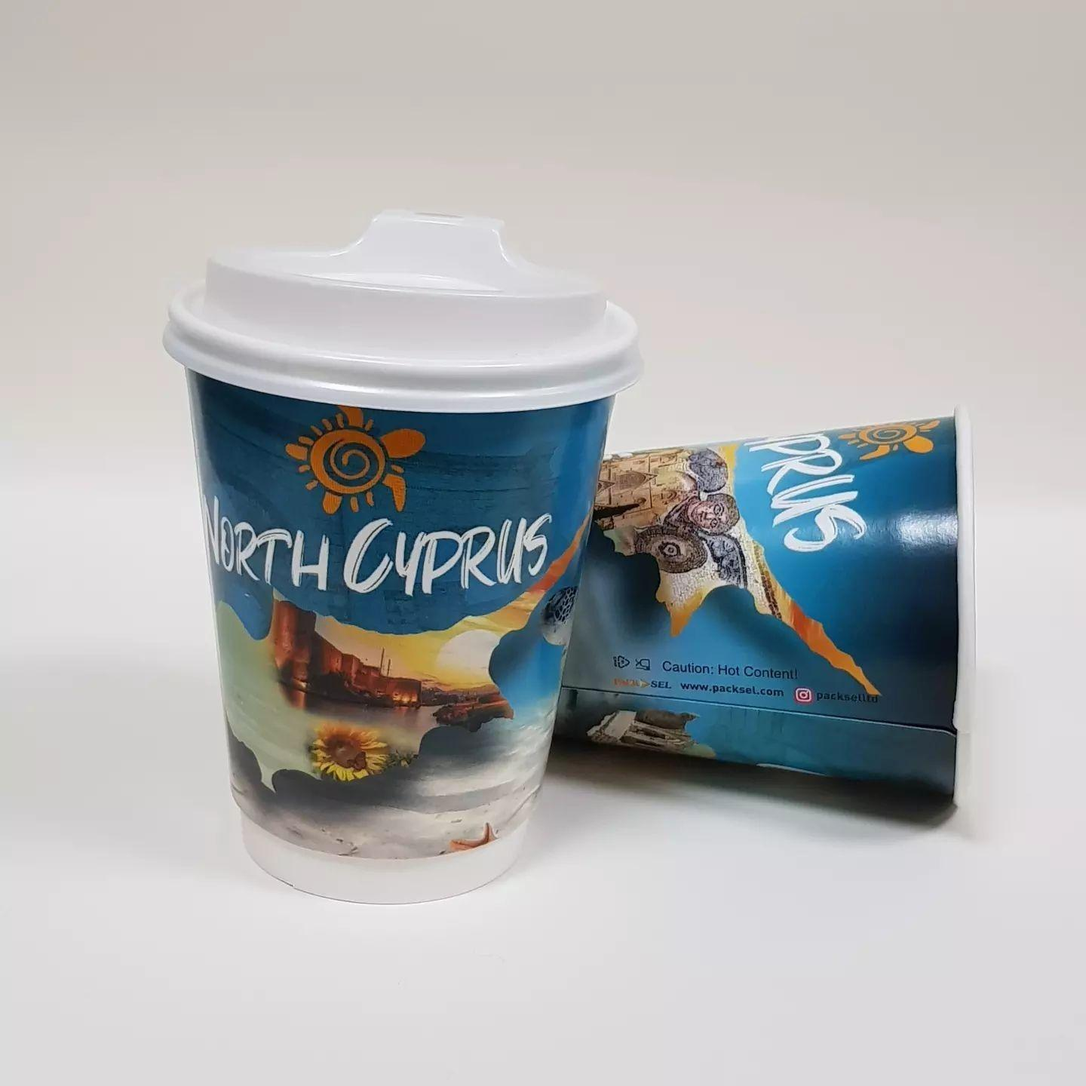cup-disposable: (144, 202, 646, 909), (532, 389, 985, 824)
